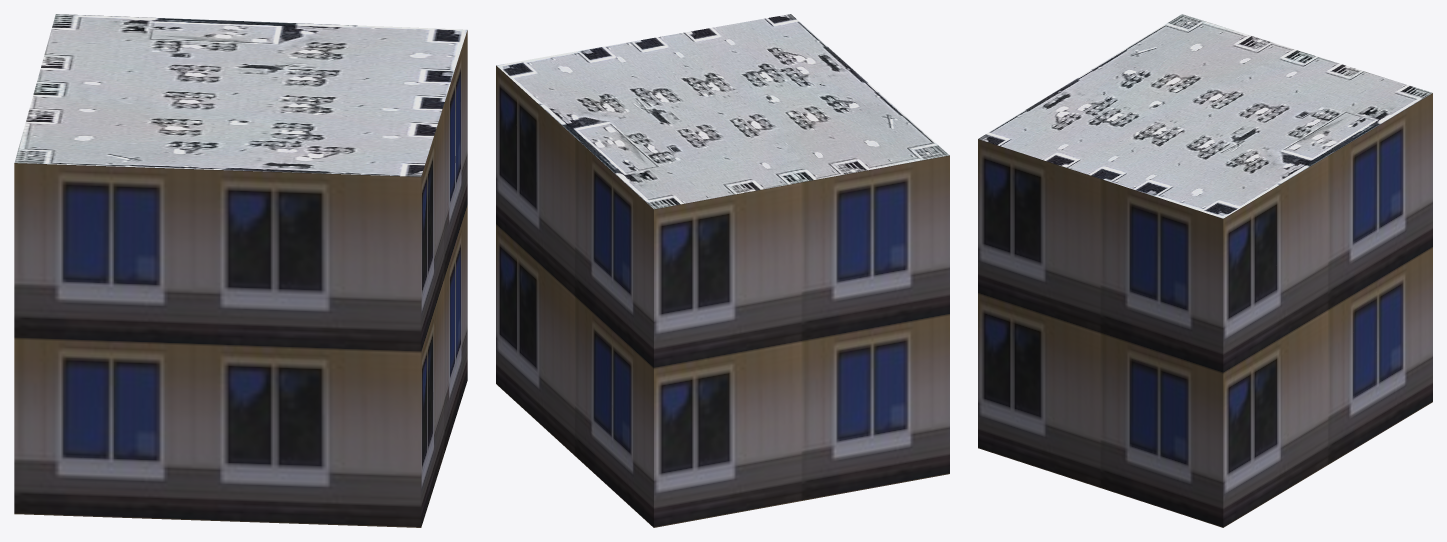
The model's file is ResTex__937.fbx.
3 renders of one model, left to right at view 1: azimuth 30°, elevation 25°; view 2: azimuth 150°, elevation 25°; view 3: azimuth 270°, elevation 25°, orthographic. The views are drawn at different scales.
Visible parts, largest first — view 1: CityEngineMaterial_5_m, CityEngineMaterial_2_m; view 2: CityEngineMaterial_5_m, CityEngineMaterial_2_m; view 3: CityEngineMaterial_5_m, CityEngineMaterial_2_m.
Part boxes in pixels (left/top/right/bottom): CityEngineMaterial_5_m: left=14, top=30, right=467, bottom=527; CityEngineMaterial_2_m: left=14, top=14, right=467, bottom=176; CityEngineMaterial_5_m: left=496, top=65, right=949, bottom=527; CityEngineMaterial_2_m: left=496, top=14, right=949, bottom=209; CityEngineMaterial_5_m: left=978, top=93, right=1432, bottom=527; CityEngineMaterial_2_m: left=978, top=14, right=1432, bottom=218.
Size of the model in its own units: 8.52 by 6 by 8.
Materials: 2 (2 with a texture image).
